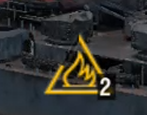2fire: (41, 61, 116, 103)
